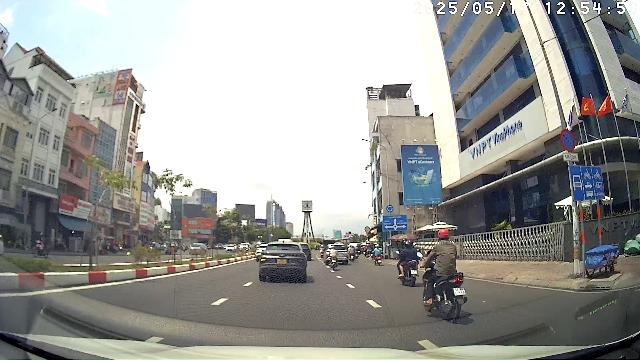131a-cam-do-xe: (560, 128, 576, 152)
303-noi-giao-nhau-chay-theo-vong-xuyen: (386, 206, 394, 212)
